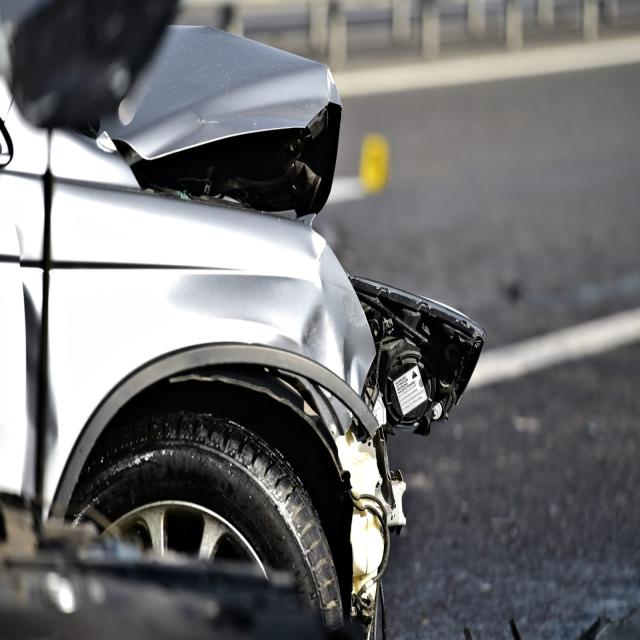crush: (100, 24, 487, 640)
